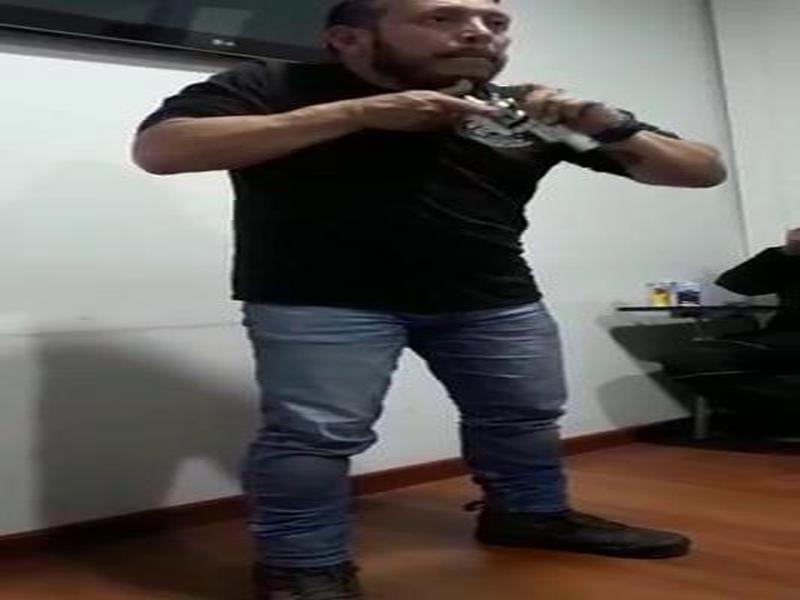Revolver: (391, 68, 607, 184)
